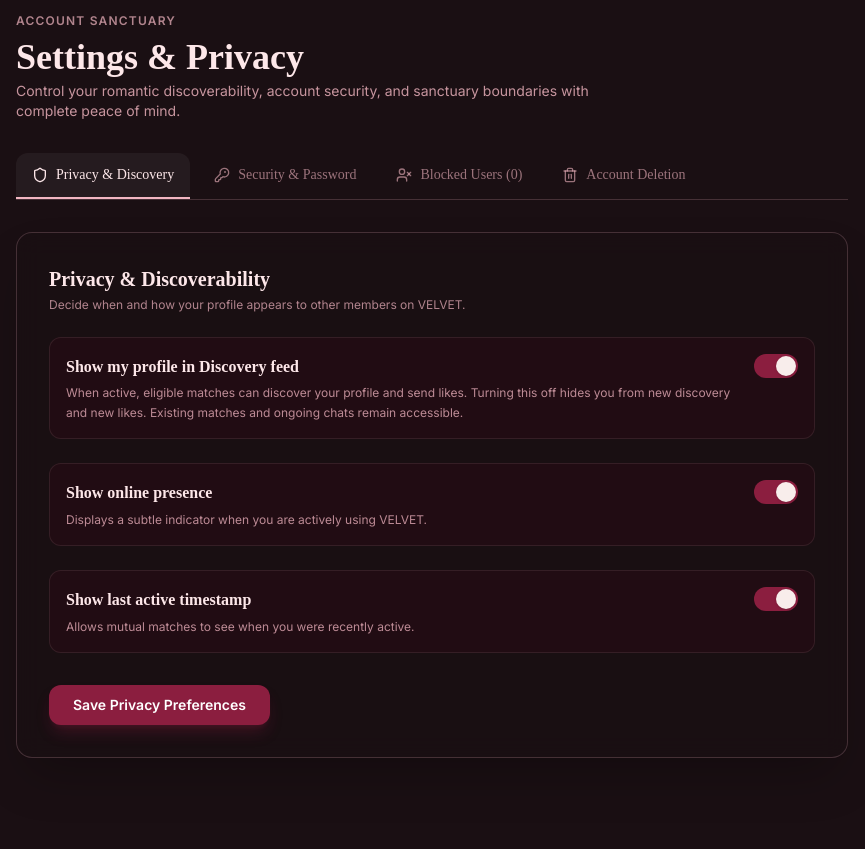
Settings Page Component › loads and saves privacy discoverability preferences
Click the switch named "Show my profile in Discovery feed" in the row of "Show my profile in Discovery feed" at (776, 366), box x1=754 y1=354 x2=798 y2=378
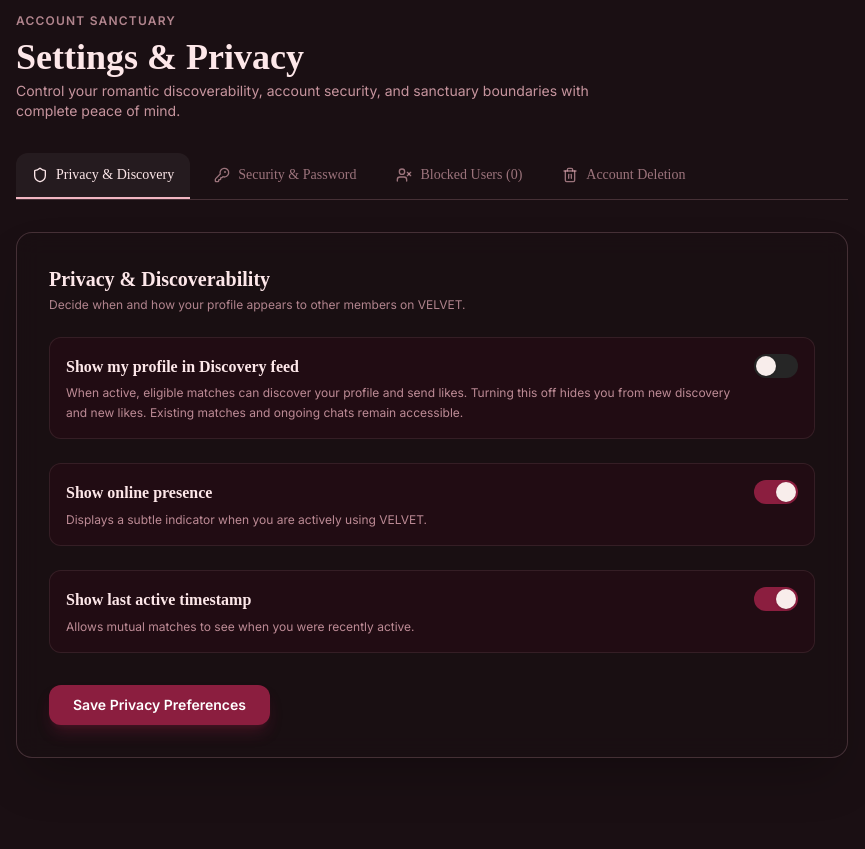
Check: the switch named "Show my profile in Discovery feed" in the row of "Show my profile in Discovery feed" is not checked, box x1=754 y1=354 x2=798 y2=378
Click the button "Save Privacy Preferences" at (160, 705), box x1=49 y1=685 x2=270 y2=725
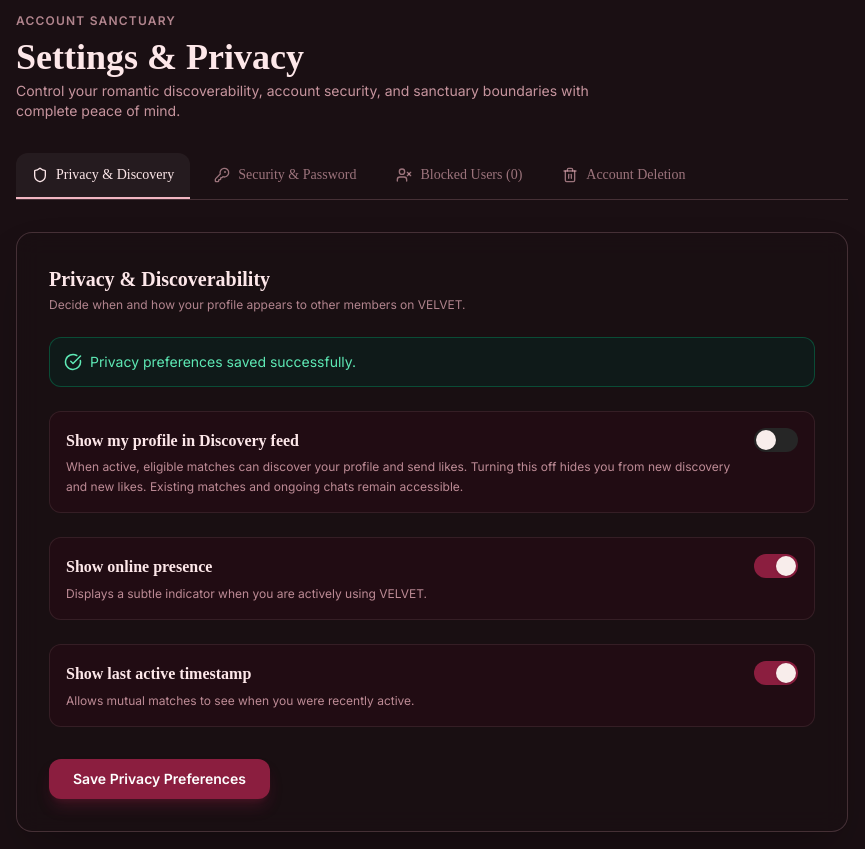
Check: the text "Privacy preferences saved successfully." is shown, box x1=90 y1=352 x2=356 y2=372
